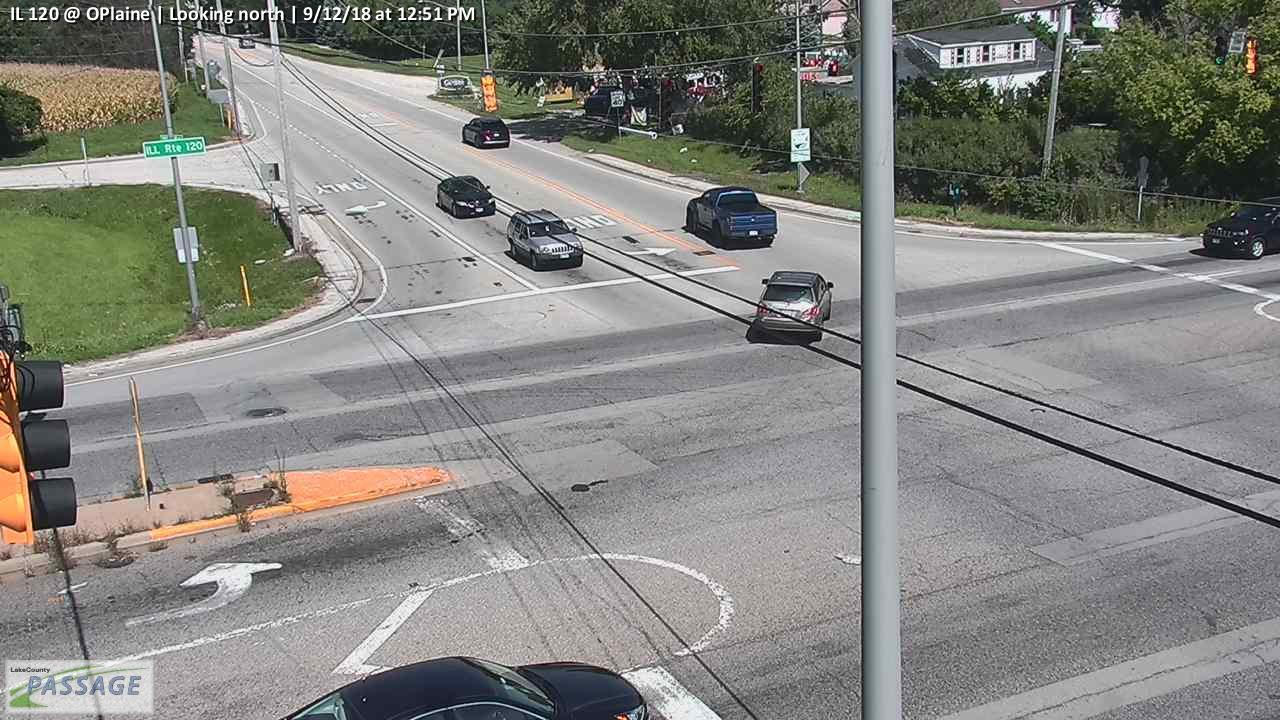SUV: (753, 269, 834, 342), (506, 209, 584, 271), (462, 117, 510, 150)
Sedan: (436, 176, 497, 219)
Truck: (685, 186, 778, 250)
